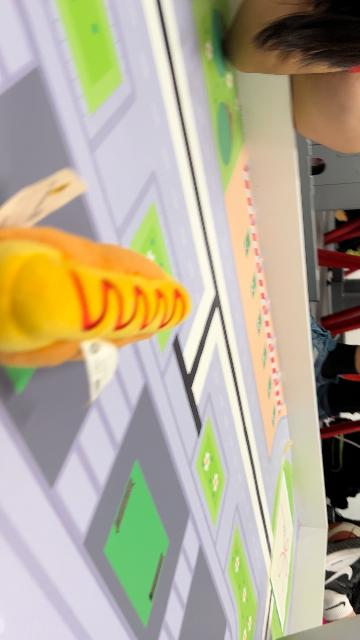hotdog: (2, 226, 192, 360)
